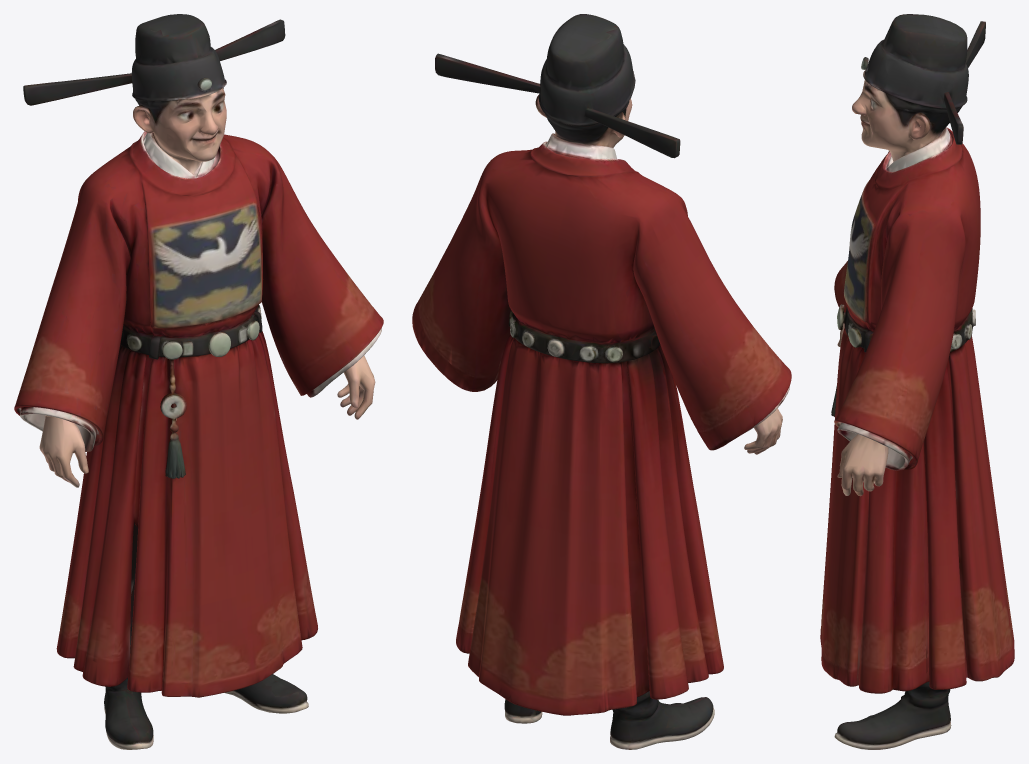
Rendered from official.glb.
The picture shows the model from 3 angles, left to right: view 1: azimuth 30°, elevation 25°; view 2: azimuth 150°, elevation 25°; view 3: azimuth 270°, elevation 25°; orthographic projection. The views are drawn at different scales.
Parts seen in each view (by area): view 1: node_0; view 2: node_0; view 3: node_0.
Part boxes in pixels (<box>): node_0: <box>14,14,383,749</box>; node_0: <box>412,14,791,749</box>; node_0: <box>820,14,1014,749</box>.
Bounding box in the file's own units: 0.629 × 1.15 × 0.2958.
1 material, 1 textured.
